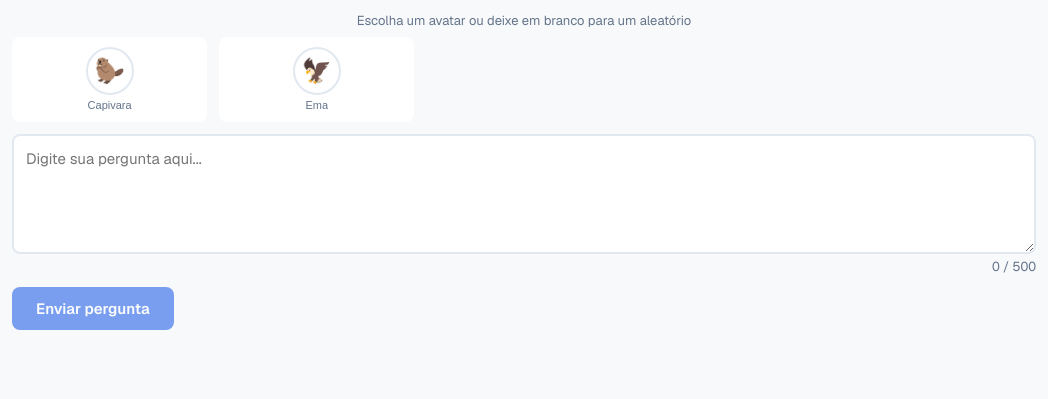
QuestionForm › should show meeting closed error
Type "Valid question text" into the text box named "Texto da pergunta" at (524, 194), box [12,134,1036,254]
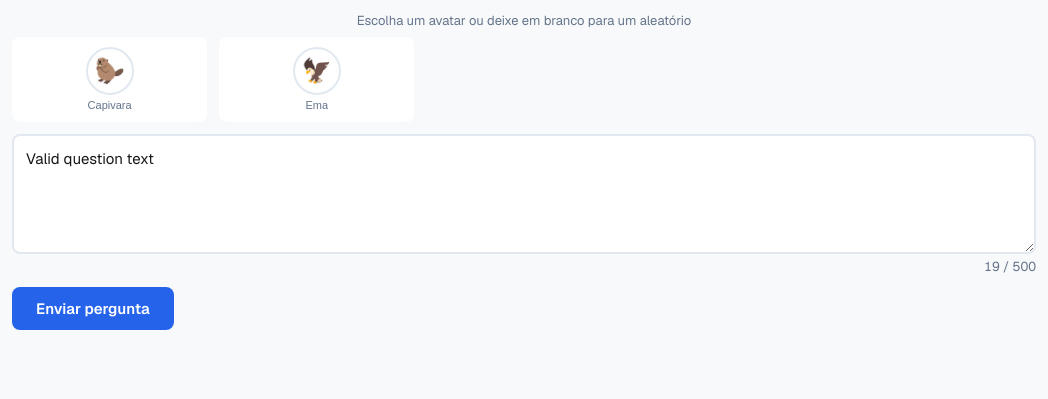
Click the button "Enviar pergunta" at (93, 309), box [12,287,174,330]
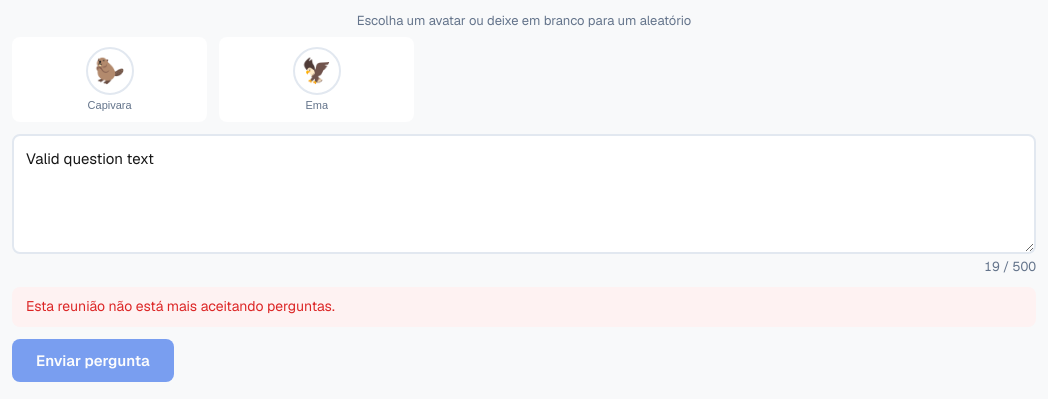
expect the message shows "não está mais aceitando": met, box [26,297,335,315]
